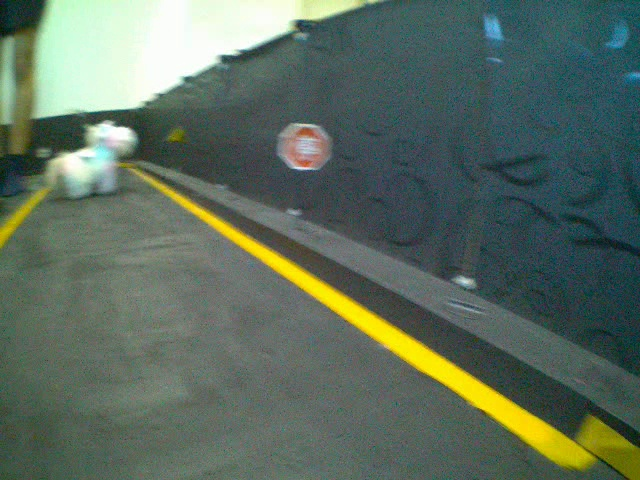unicorn: (39, 119, 140, 201)
